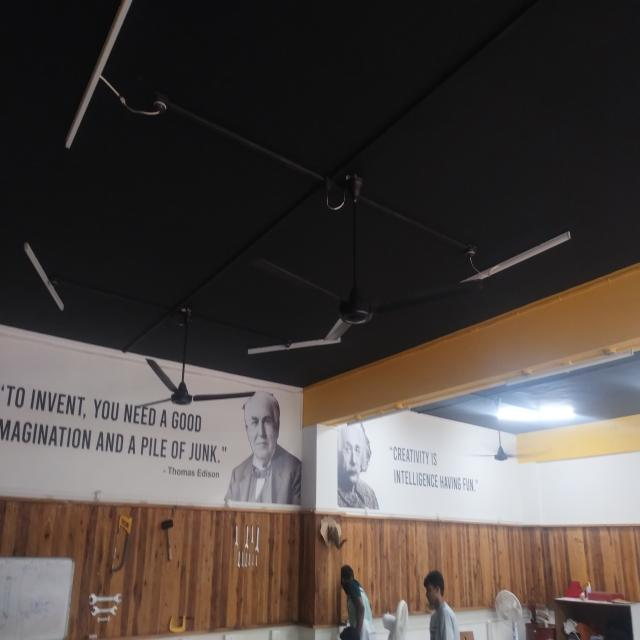fan_off: (258, 173, 472, 345), (140, 308, 254, 418), (457, 423, 544, 465)
tubelight_off: (61, 0, 135, 156), (470, 222, 578, 287), (22, 240, 70, 315), (246, 328, 343, 360)
tubelight_on: (494, 404, 577, 424)
